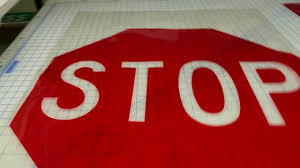SS: (11, 22, 300, 168)
